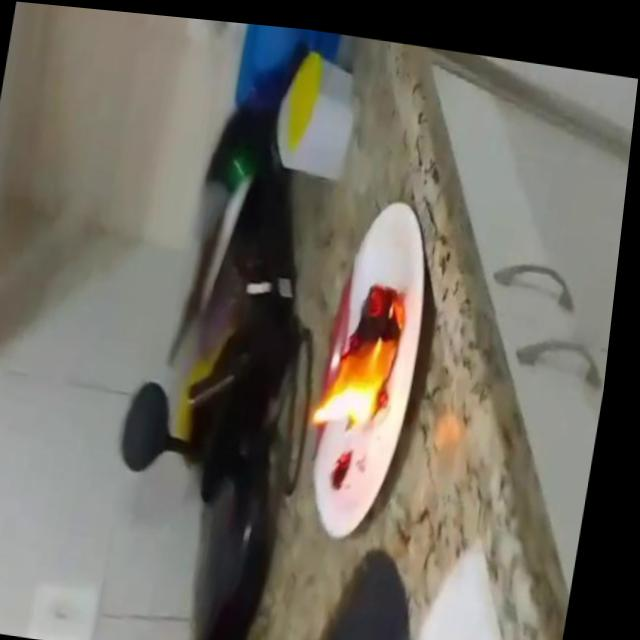Fire: (315, 263, 420, 434)
